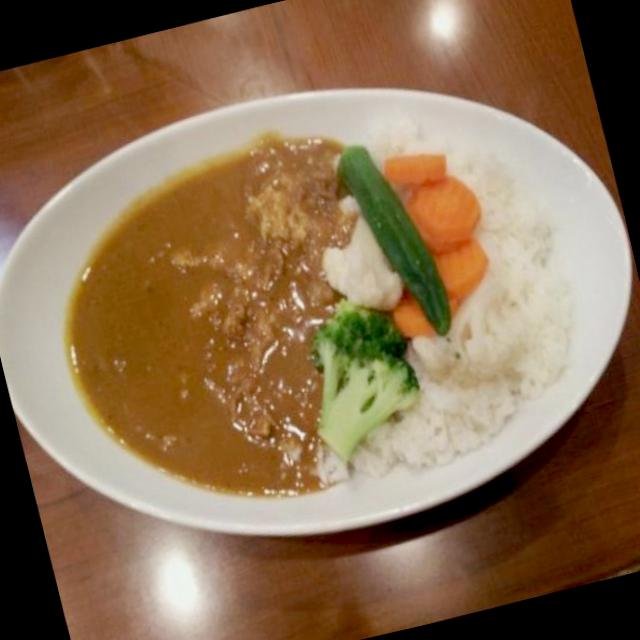Beef Curry: (56, 118, 404, 527)
